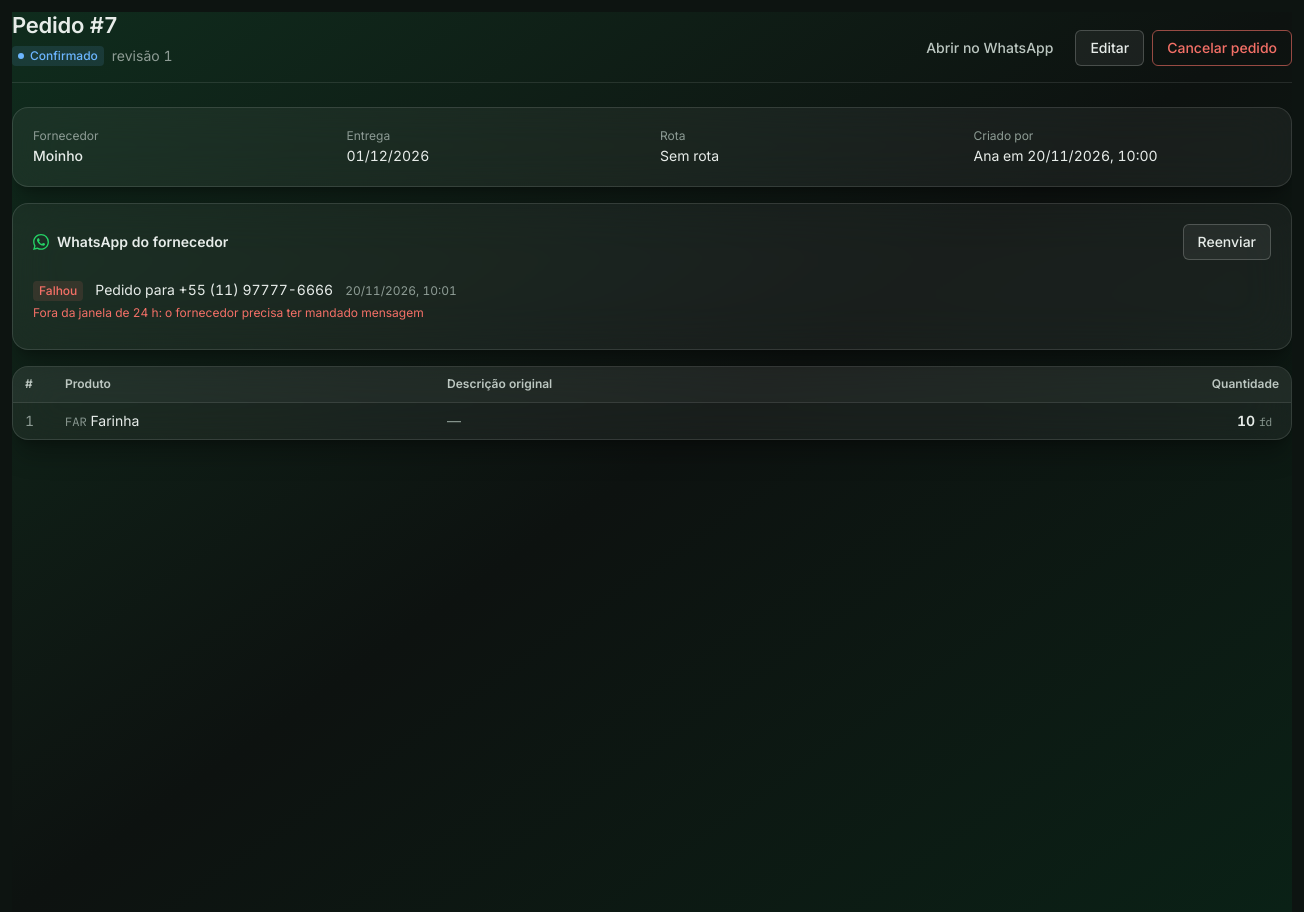
Scenario: PedidoDetalhePage — WhatsApp automático › mostra a falha com o motivo e reenvia
Expected: the text "Falhou" is shown, left=33, top=280, right=83, bottom=300
Expected: the text "Fora da janela de 24 h: o fornecedor precisa ter mandado mensagem" is shown, left=33, top=304, right=424, bottom=320
What coordinates should you click on to do the following:
click the button "Reenviar"
I would click on:
 (1227, 242)
Its box is left=1182, top=224, right=1271, bottom=260.
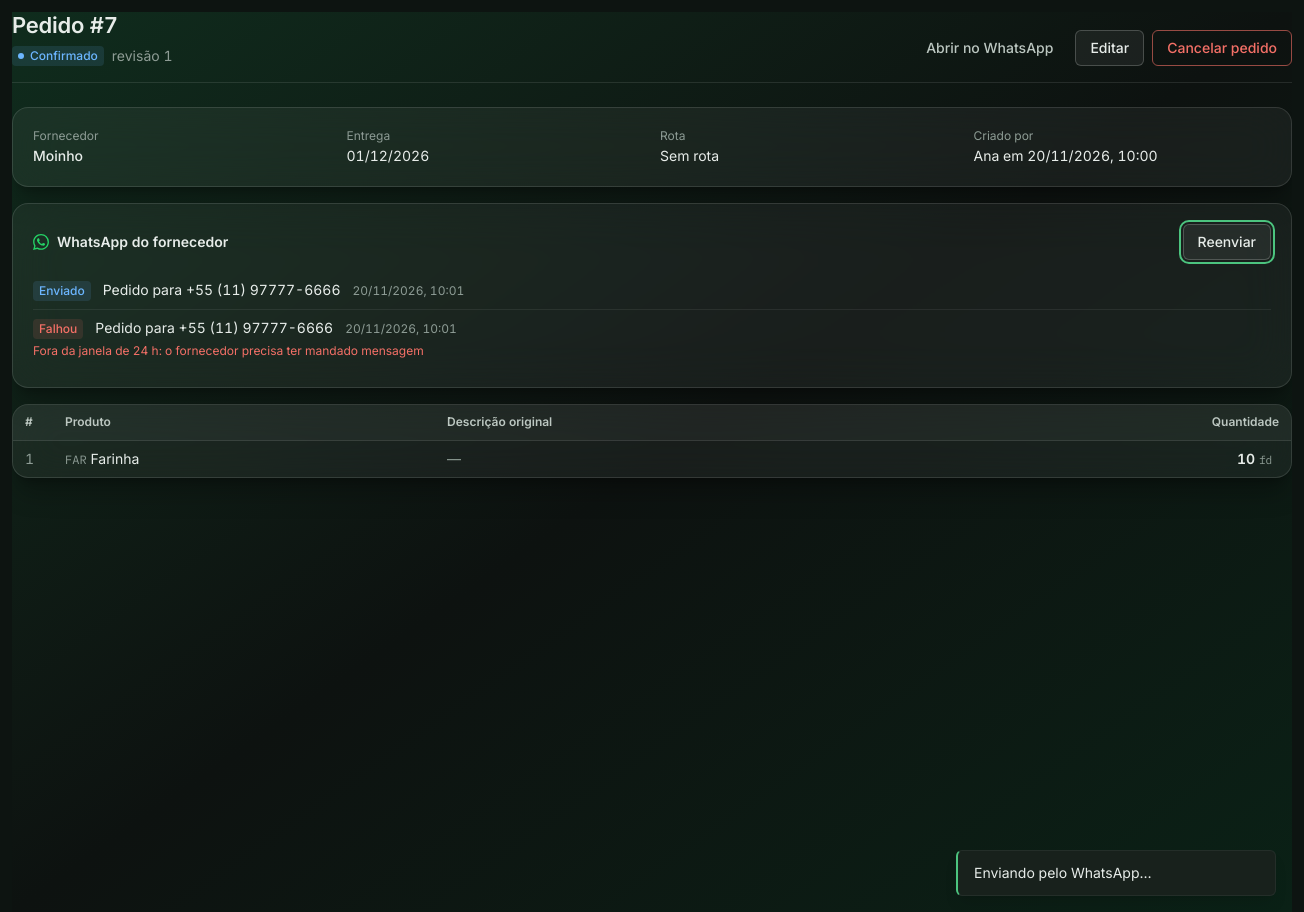
Expected: the text "Enviado" is shown, left=33, top=280, right=91, bottom=300
